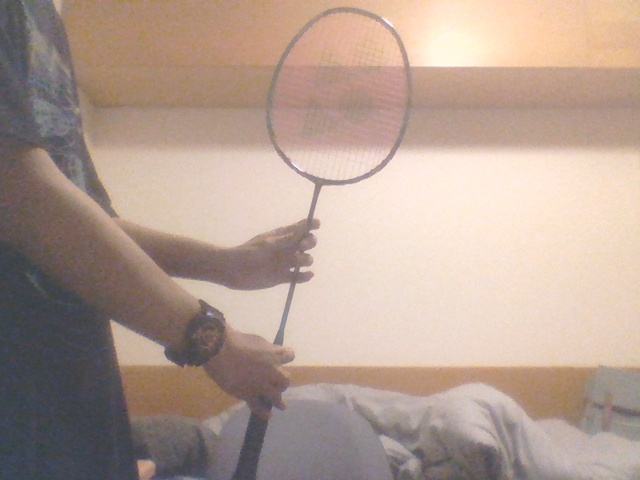human: (1, 1, 320, 480)
racket: (228, 7, 414, 480)
